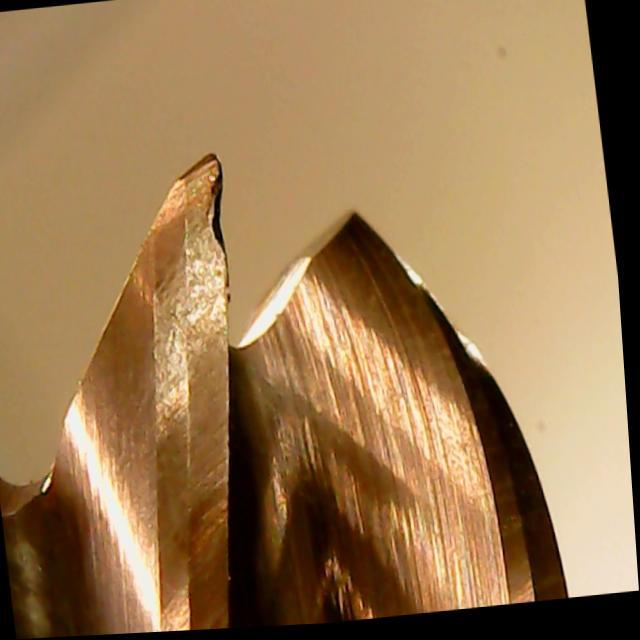Tool-wear-class-1: (127, 149, 271, 434)
